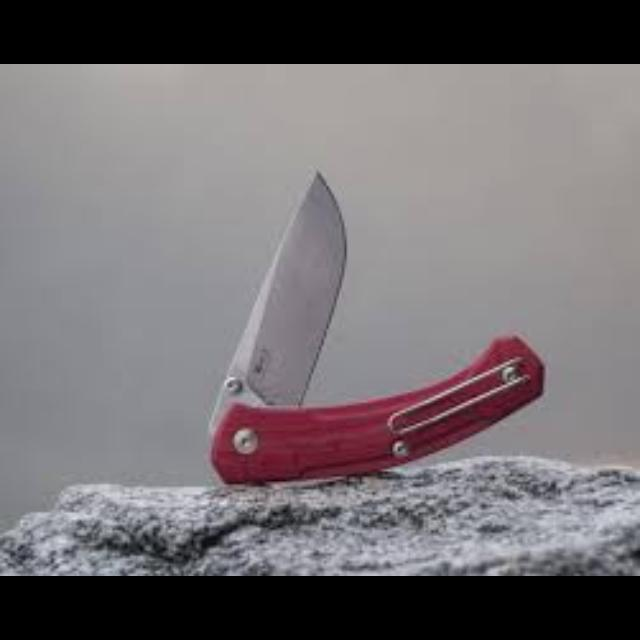knife: (207, 166, 546, 484), (207, 166, 347, 434)
